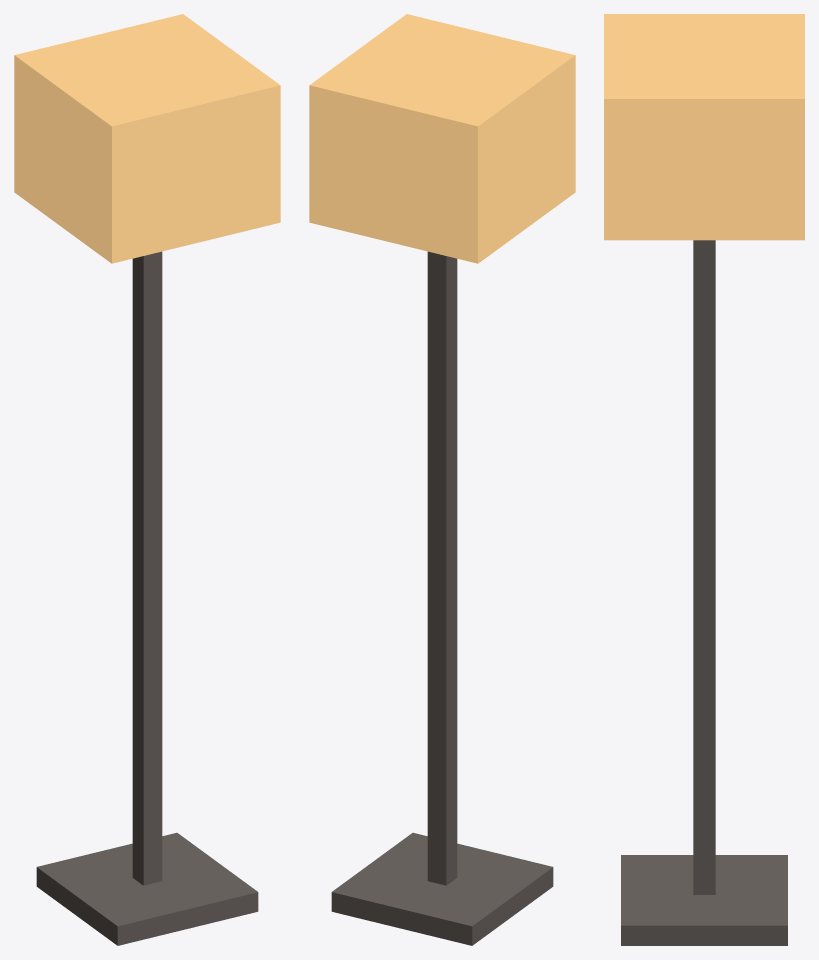
Rendered from abajur_1975.glb.
3 views of the same model, side by side, from view 1: azimuth 30°, elevation 25°; view 2: azimuth 150°, elevation 25°; view 3: azimuth 270°, elevation 25° (orthographic). The views are drawn at different scales.
Parts seen in each view (by area): view 1: Malha_0; view 2: Malha_0; view 3: Malha_0.
Boxes of the visible parts, box(x1,y1,x2,y2) form: Malha_0: box(14, 14, 280, 945); Malha_0: box(309, 14, 575, 945); Malha_0: box(604, 14, 804, 945).
Size of the model in its own units: 0.36 by 1.69 by 0.36.
